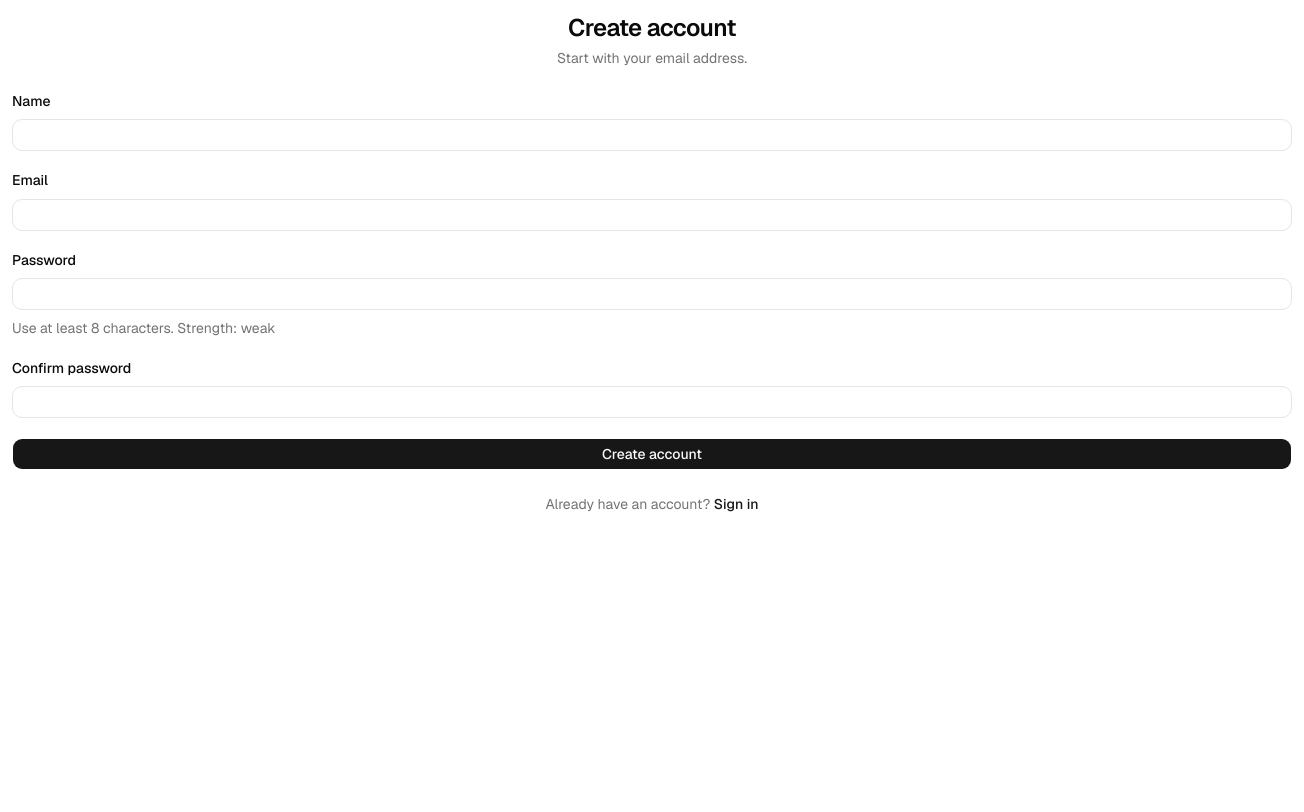
Test: SignupForm › shows field errors for invalid input
Click the button "Create account" at (652, 454), box [12,438,1292,470]
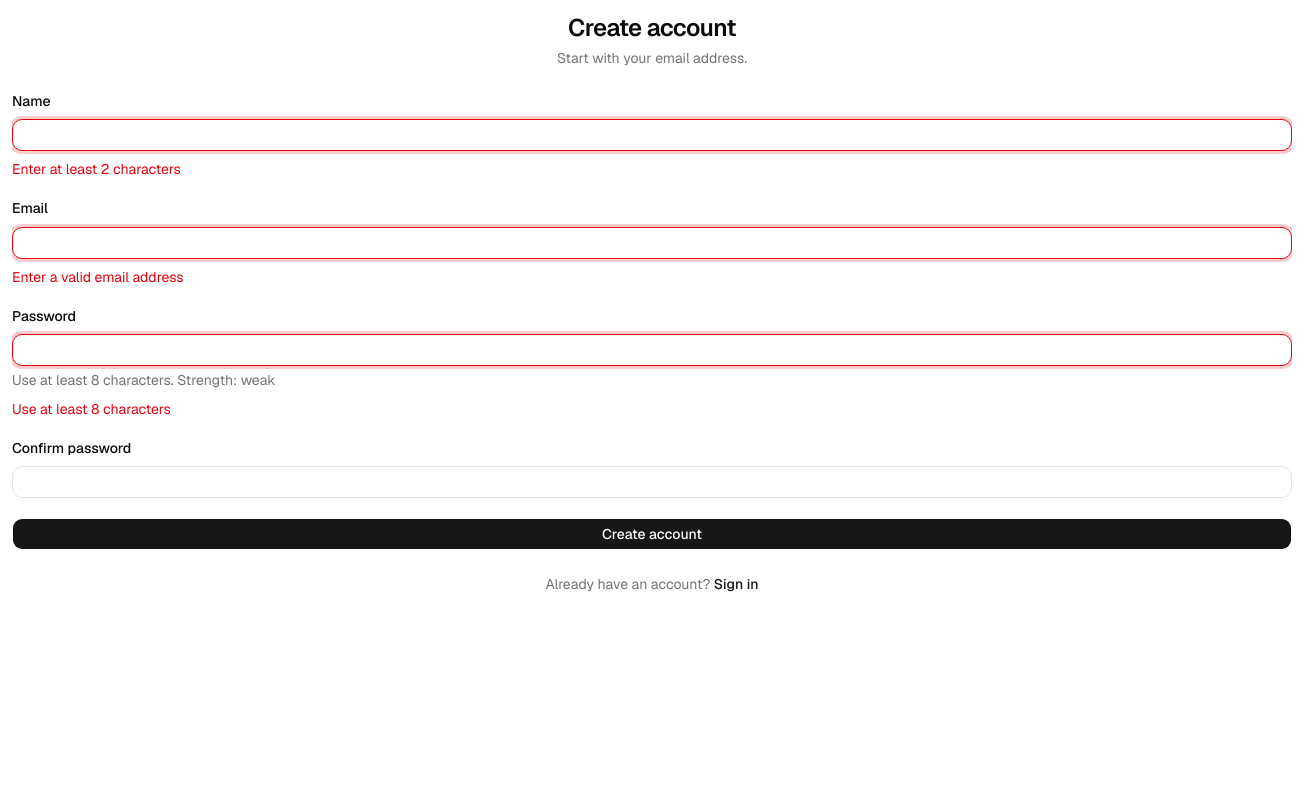
expect the text "Enter at least 2 characters" is shown: met, box [12,160,181,178]
expect the text "Enter a valid email address" is shown: met, box [12,268,184,286]
expect the text "Use at least 8 characters" is shown: met, box [12,400,171,418]
